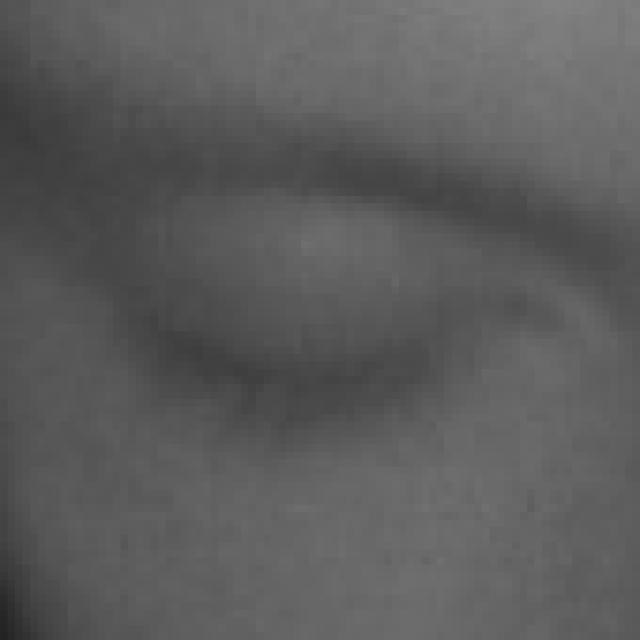Eyeclosed: (159, 200, 526, 522)
